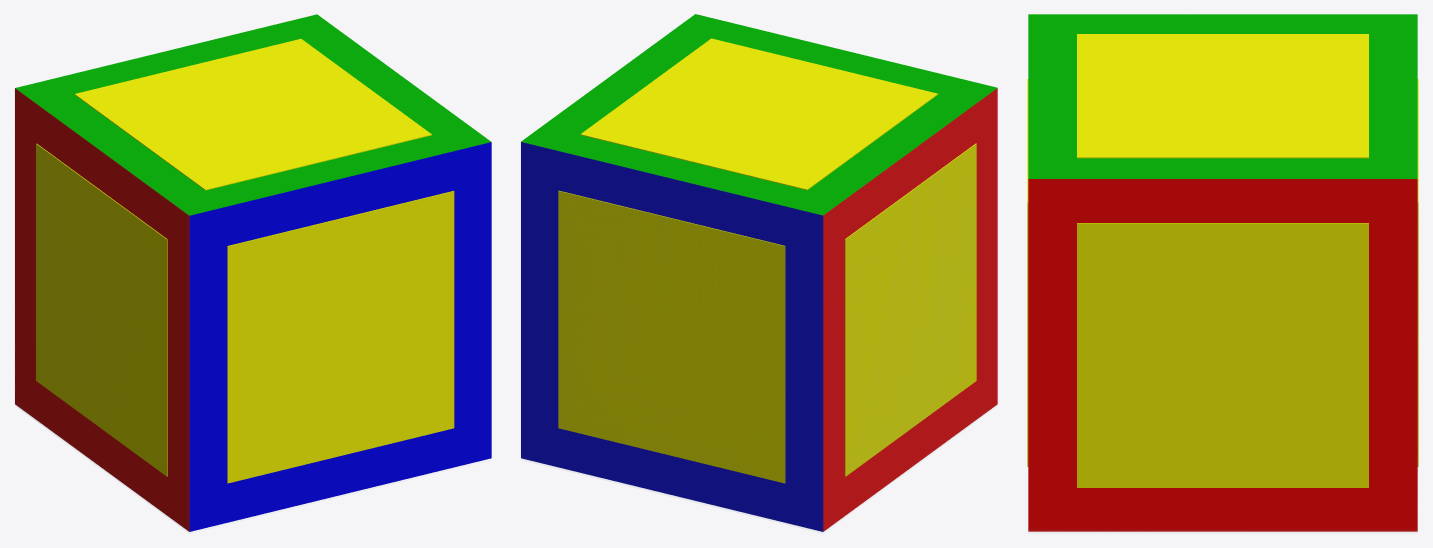
Rendered from planebox-x.glb.
3 views of the same model, side by side, from view 1: azimuth 30°, elevation 25°; view 2: azimuth 150°, elevation 25°; view 3: azimuth 270°, elevation 25° (orthographic). The views are drawn at different scales.
Bounding box in the file's own units: 40.2 × 40.35 × 40.2.
